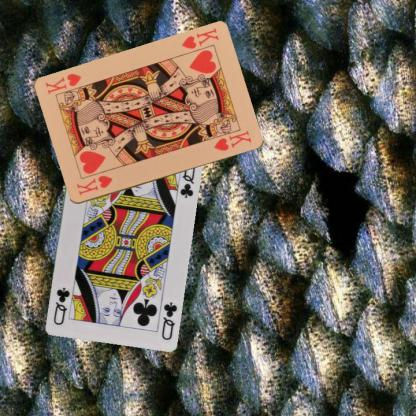Kh: (179, 25, 220, 51), (73, 173, 114, 197)
Qc: (158, 299, 178, 341)
